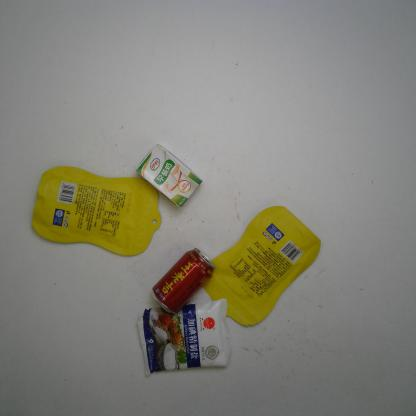Dried Fruit: (202, 204, 322, 328), (31, 164, 163, 257)
Drink: (150, 245, 218, 316)
Milk: (133, 141, 205, 209)
Seasoner: (135, 297, 233, 377)
